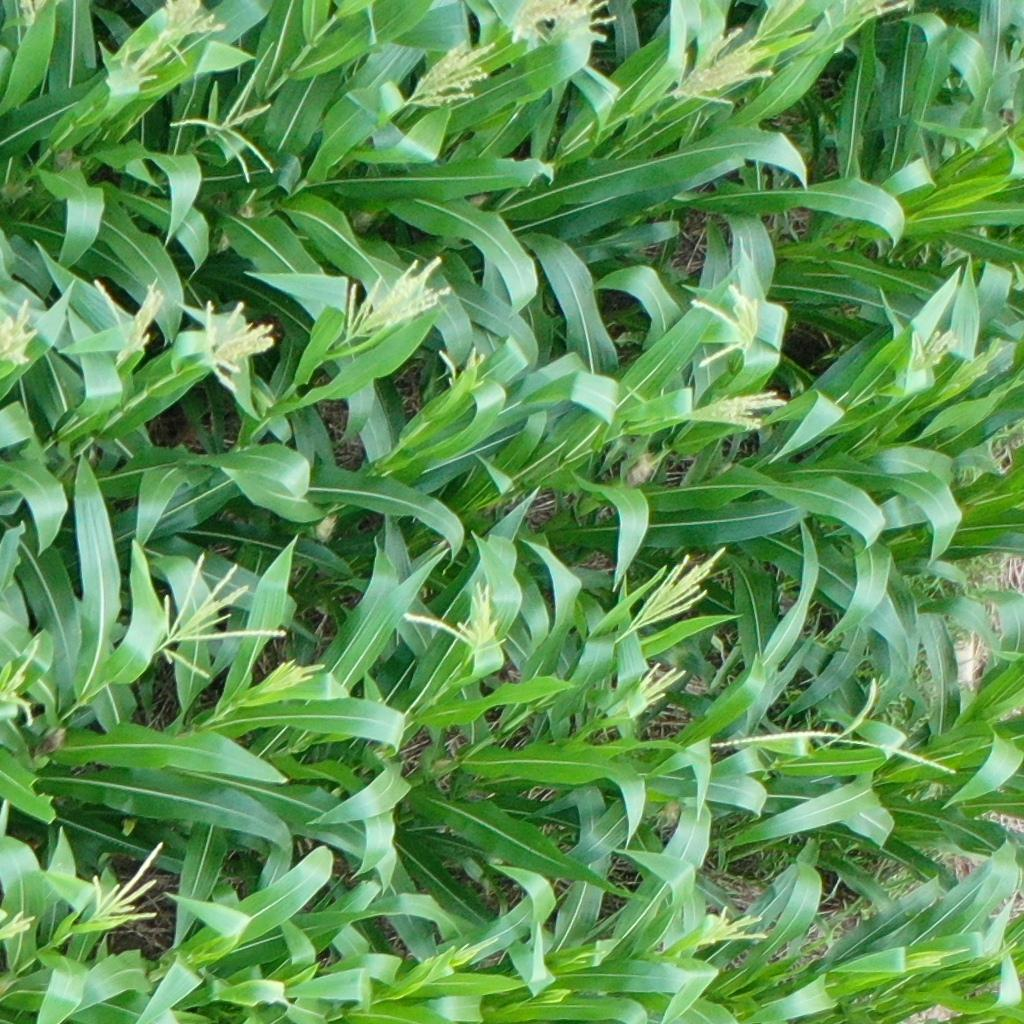Tassel: (707, 674, 968, 786), (156, 545, 290, 681), (163, 58, 288, 183), (335, 252, 453, 340), (620, 547, 739, 628), (675, 24, 774, 109), (88, 838, 175, 931), (402, 40, 501, 119), (200, 300, 279, 392), (684, 284, 770, 367), (402, 579, 503, 648), (91, 277, 166, 364), (509, 1, 619, 53), (687, 381, 789, 435), (1, 633, 47, 726), (617, 659, 689, 717), (824, 1, 917, 44), (945, 332, 1004, 396), (250, 655, 323, 705), (106, 39, 163, 102), (153, 1, 224, 50), (434, 345, 493, 402), (695, 906, 766, 947), (1, 296, 39, 370), (751, 1, 813, 41), (902, 943, 970, 975), (914, 328, 956, 374), (446, 936, 501, 967), (1, 907, 37, 946)
